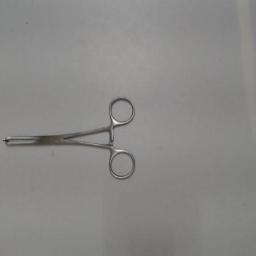Allis Tissue Forceps: (2, 94, 138, 186)
